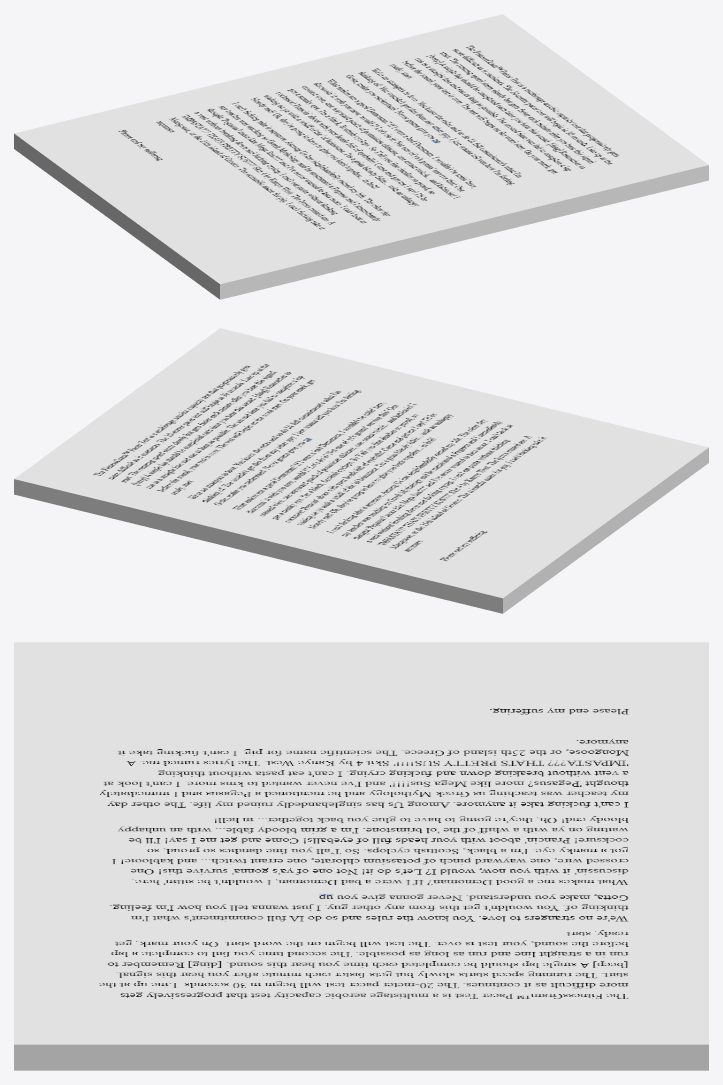
The model's file is Paper.fbx.
3 renders of one model, top to bottom at view 1: azimuth 30°, elevation 25°; view 2: azimuth 150°, elevation 25°; view 3: azimuth 270°, elevation 25°, orthographic. The views are drawn at different scales.
Parts seen in each view (by area): view 1: Cube.022; view 2: Cube.022; view 3: Cube.022.
Boxes of the visible parts, x1,y1,x2,y2 form: Cube.022: [14, 14, 708, 299]; Cube.022: [14, 328, 708, 613]; Cube.022: [14, 642, 708, 1070].
Bounding box in the file's own units: 304 × 9.22 × 222.
